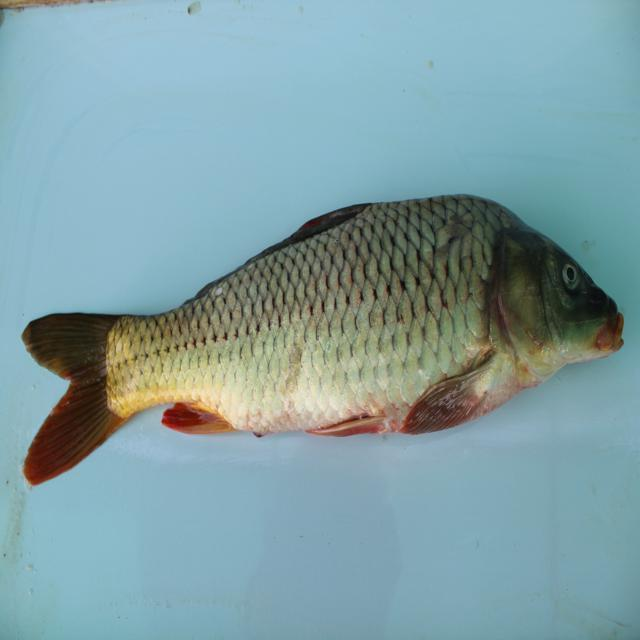CommonCarp: (16, 169, 631, 497)
